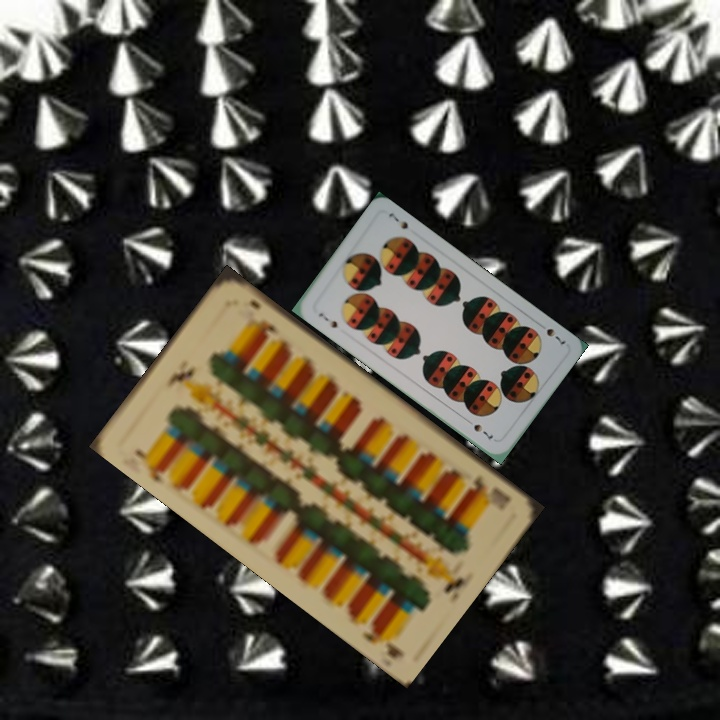E10: (465, 471, 513, 507), (130, 445, 167, 487)
S7: (534, 319, 568, 347), (314, 309, 340, 331)
